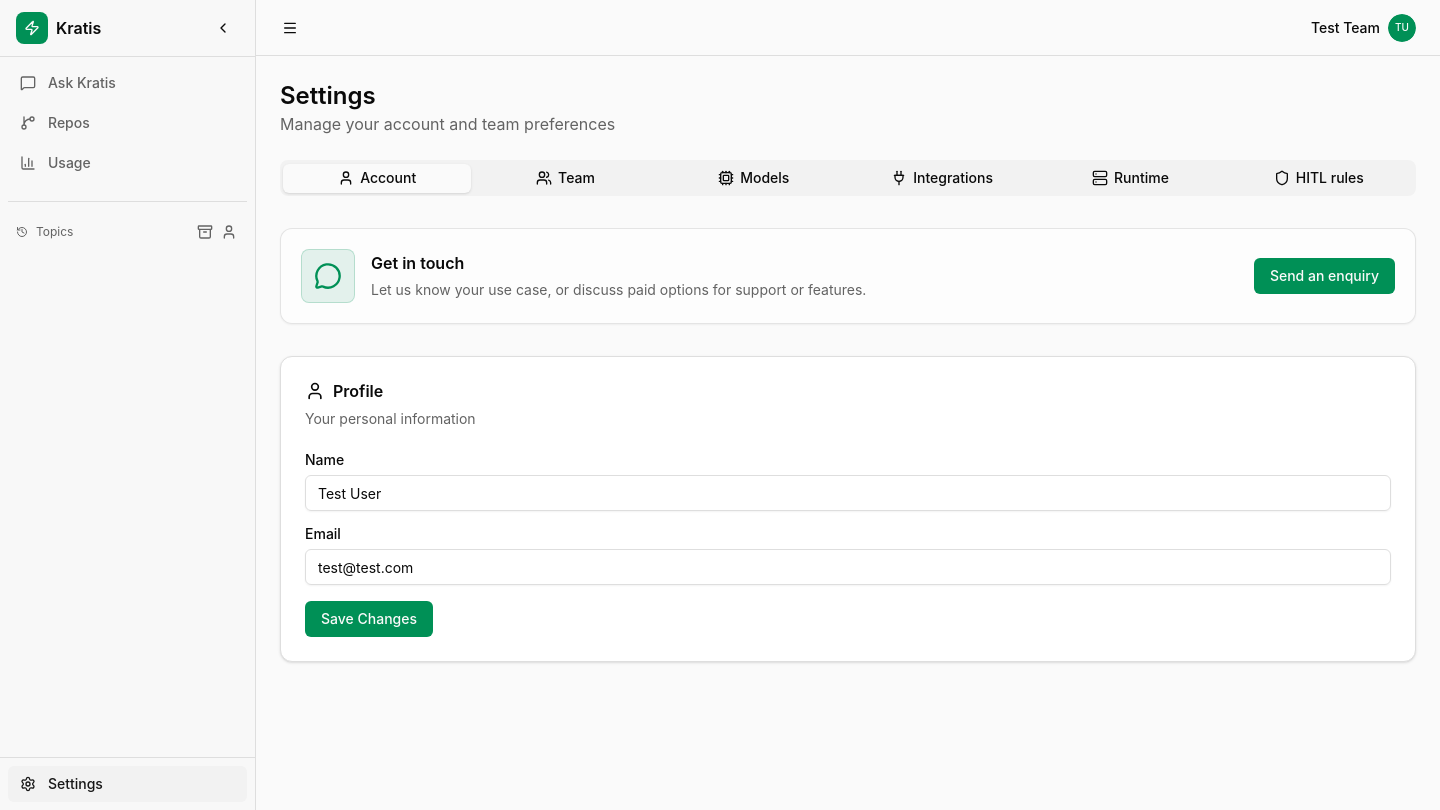
Test: Environments Flow › renders environments section in settings
The width and height of the screenshot is (1440, 810).
Click the tab "Runtime" at (1130, 178), box x1=1036 y1=164 x2=1225 y2=192
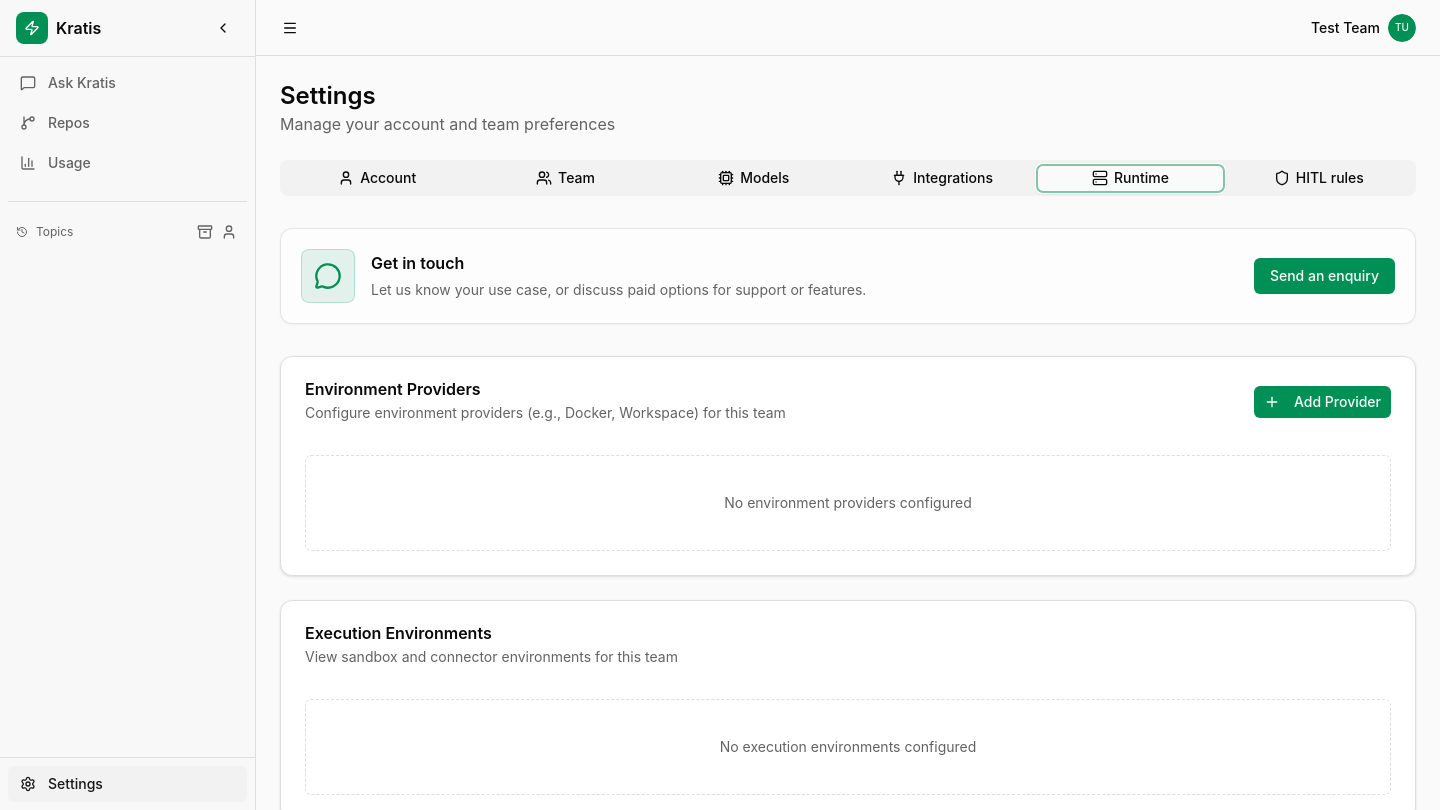
Check: the text "Execution Environments" is shown, box x1=305 y1=623 x2=492 y2=643
